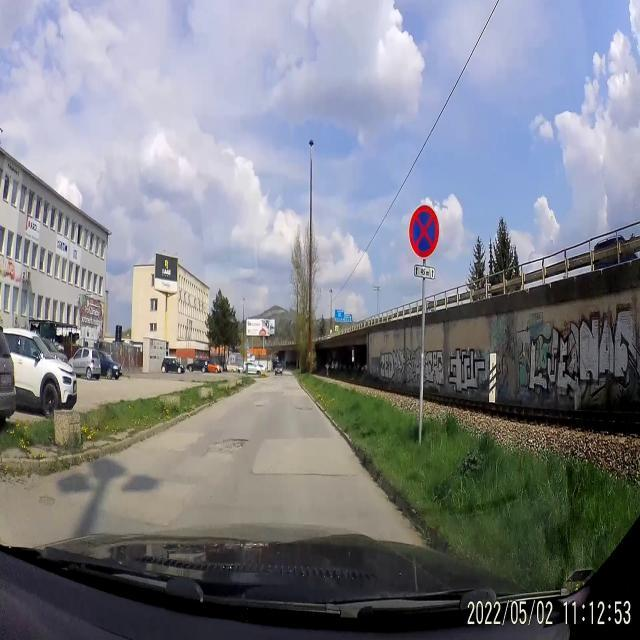Pothole: (213, 432, 248, 459), (38, 492, 57, 510), (295, 404, 313, 416), (256, 400, 264, 410)
